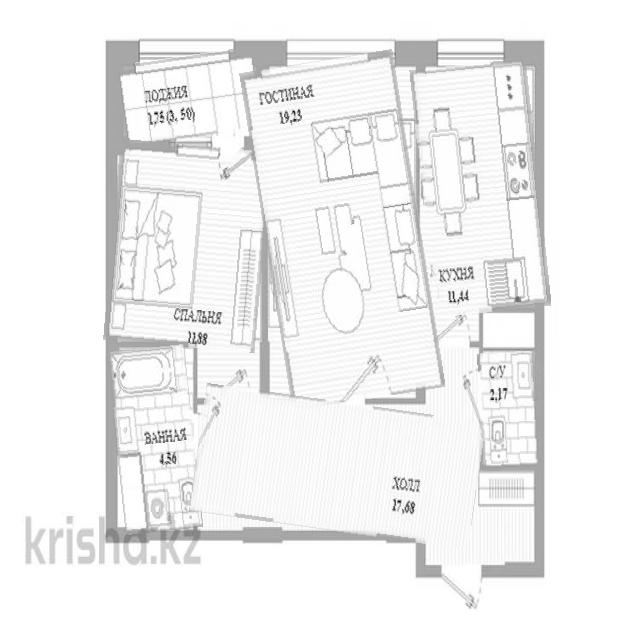balcony: (113, 51, 264, 144)
bathroom: (111, 346, 199, 534), (479, 352, 539, 471)
hallway: (193, 393, 483, 540)
kitchen: (416, 61, 545, 314)
living_room: (252, 54, 433, 406), (108, 142, 268, 350)
